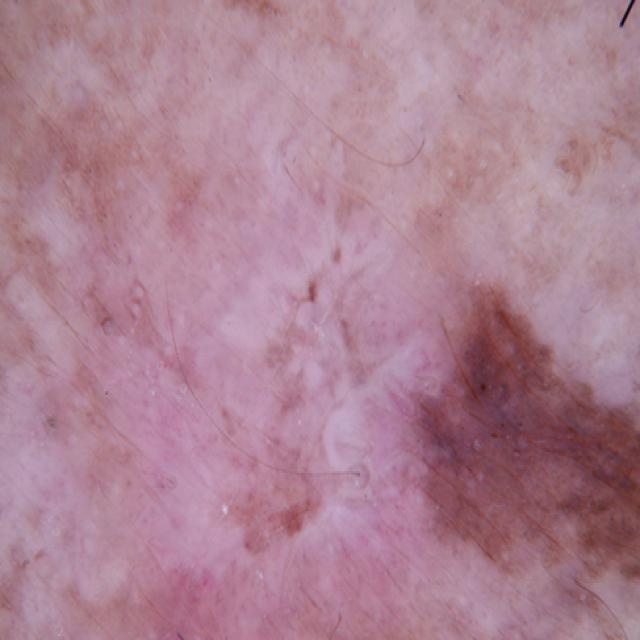Keratosis: (426, 266, 640, 632), (82, 378, 375, 640), (150, 176, 404, 354)
